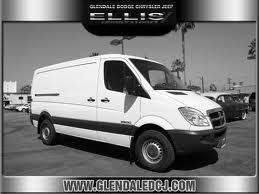car: (31, 55, 228, 172)
